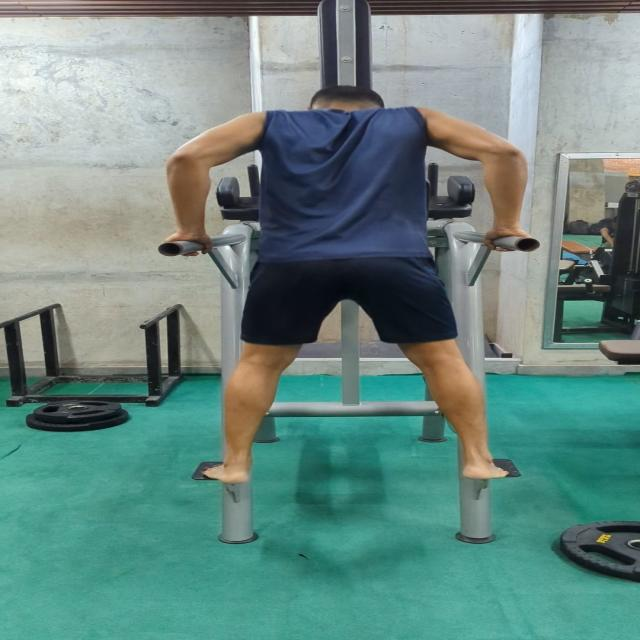Normal_Dips: (151, 75, 554, 492)
